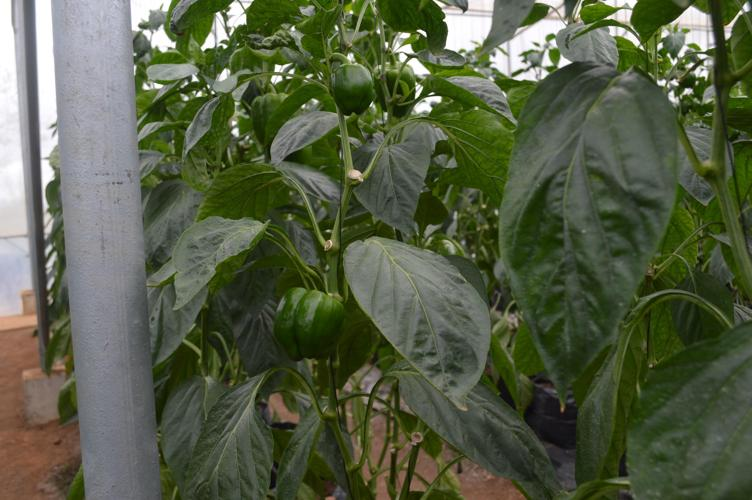BellPepper: (259, 278, 352, 366), (326, 62, 382, 121), (241, 88, 299, 144), (375, 53, 418, 112)
